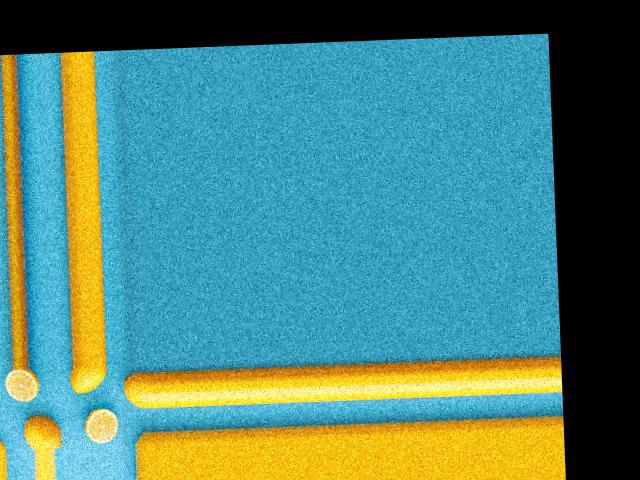lemon: (120, 375, 145, 411)
